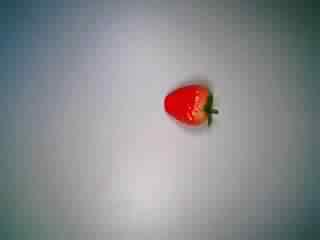strawberry: (154, 77, 220, 143)
